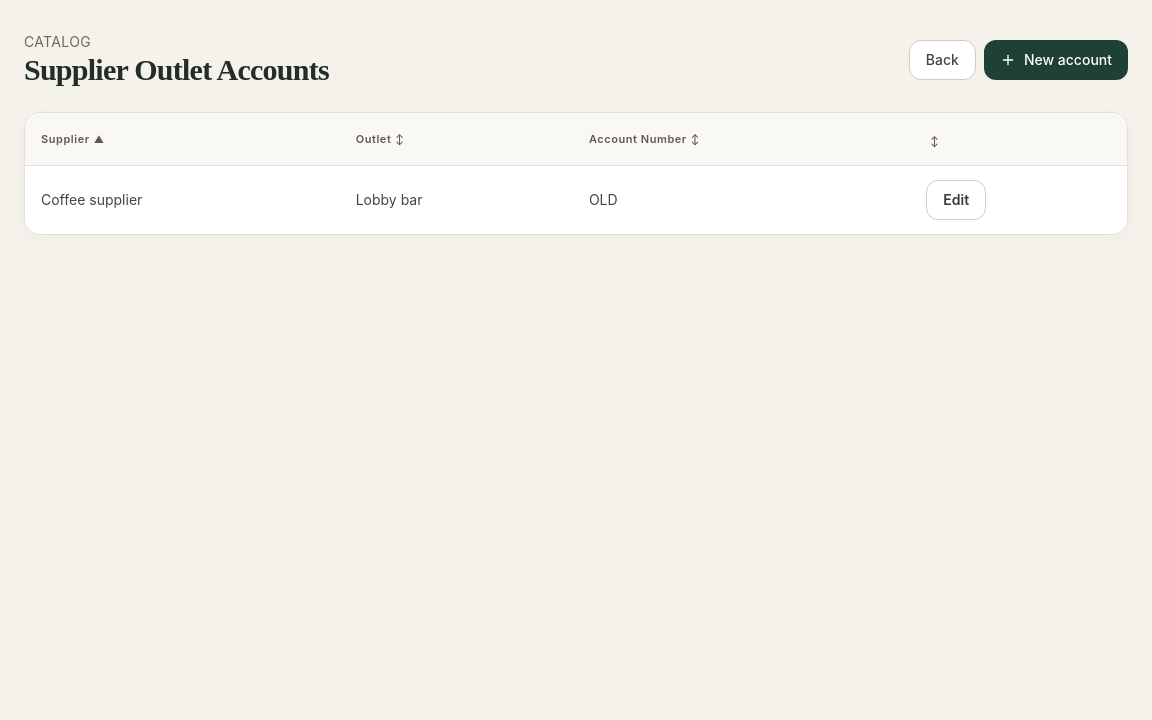
Test: requires a verified reload after a stale revision instead of overwriting the latest number
This screenshot has width=1152, height=720.
Click the button with aria-label "Edit account for Lobby bar" at (956,200), box [926,180,986,220]
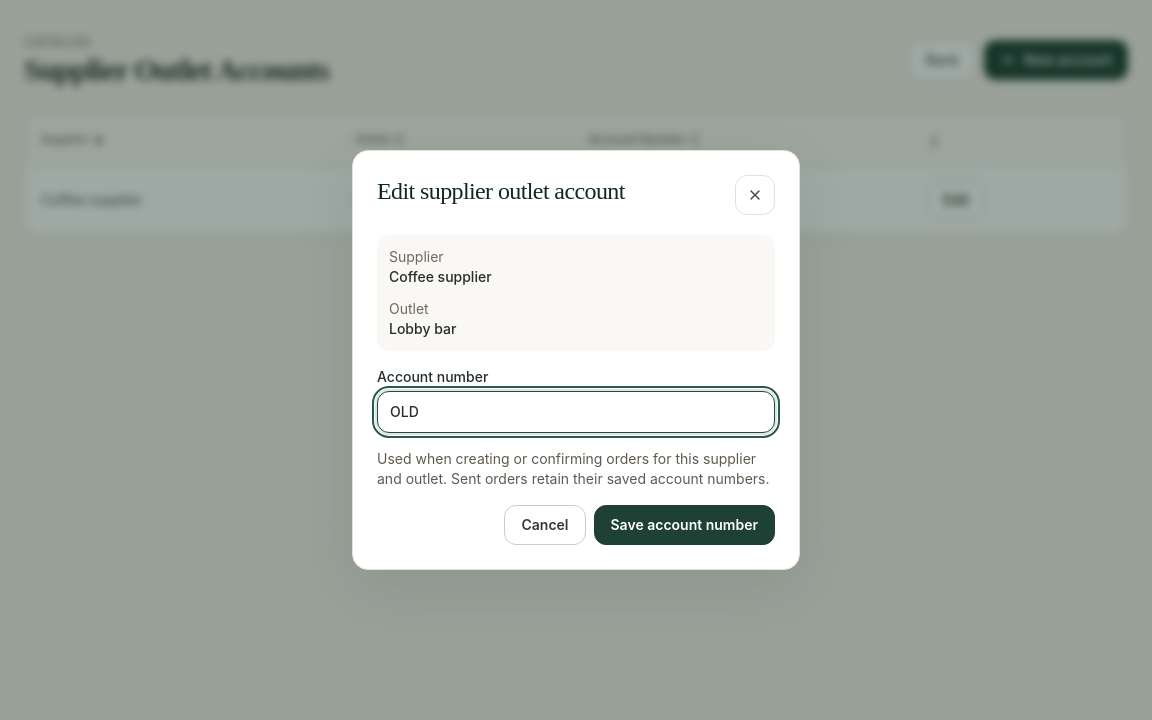
Replace the text in the field labelled "Account number" with "NEW" at (576,412), box [377,391,775,433]
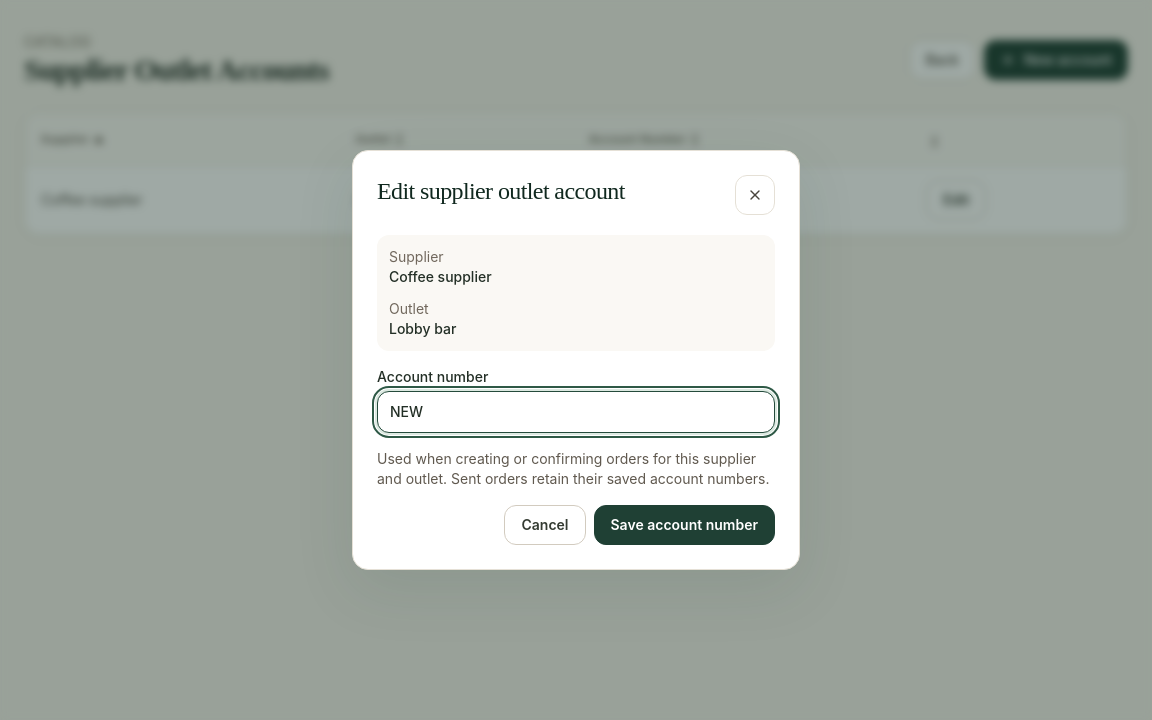
Click the button "Save account number" at (684,525), box [594,505,775,545]
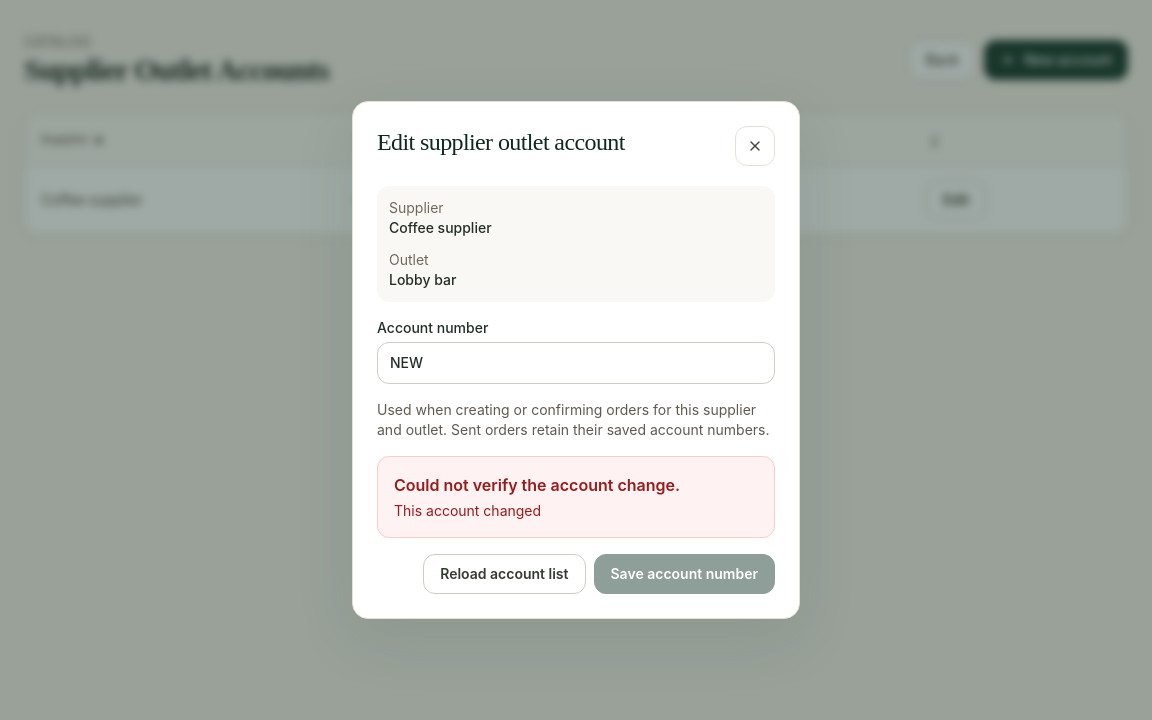
Now the text "This account changed" is shown, box [394,502,541,519]
Now the button "Save account number" is disabled, box [594,554,775,594]
Click the button "Reload account list" at (504,574), box [423,554,586,594]
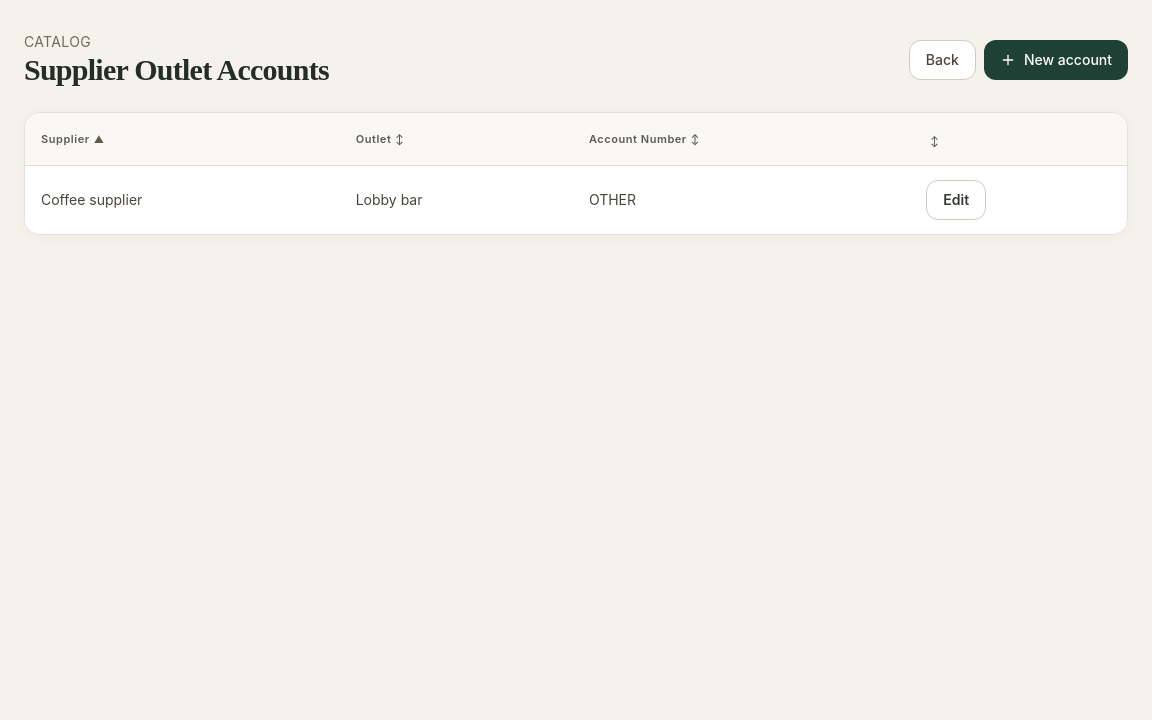
Now the text "OTHER" is shown, box [573,166,910,234]
